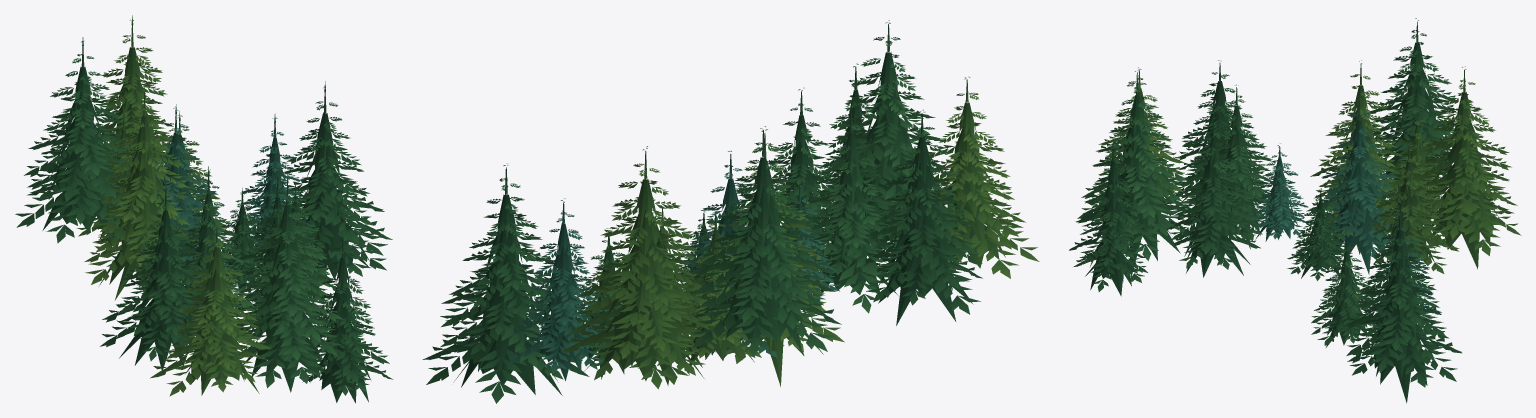
The picture shows the model from 3 angles, left to right: view 1: azimuth 30°, elevation 25°; view 2: azimuth 150°, elevation 25°; view 3: azimuth 270°, elevation 25°; orthographic projection. The views are drawn at different scales.
Parts seen in each view (by area): view 1: pn_31; view 2: pn_31; view 3: pn_31.
Part boxes in pixels (x1=…): pn_31: x1=15, y1=15, x2=393, y2=403; pn_31: x1=422, y1=20, x2=1039, y2=403; pn_31: x1=1069, y1=18, x2=1521, y2=403.
Bounding box in the file's own units: 31.73 × 24.35 × 37.15.
Materials: 1 (1 with a texture image).
